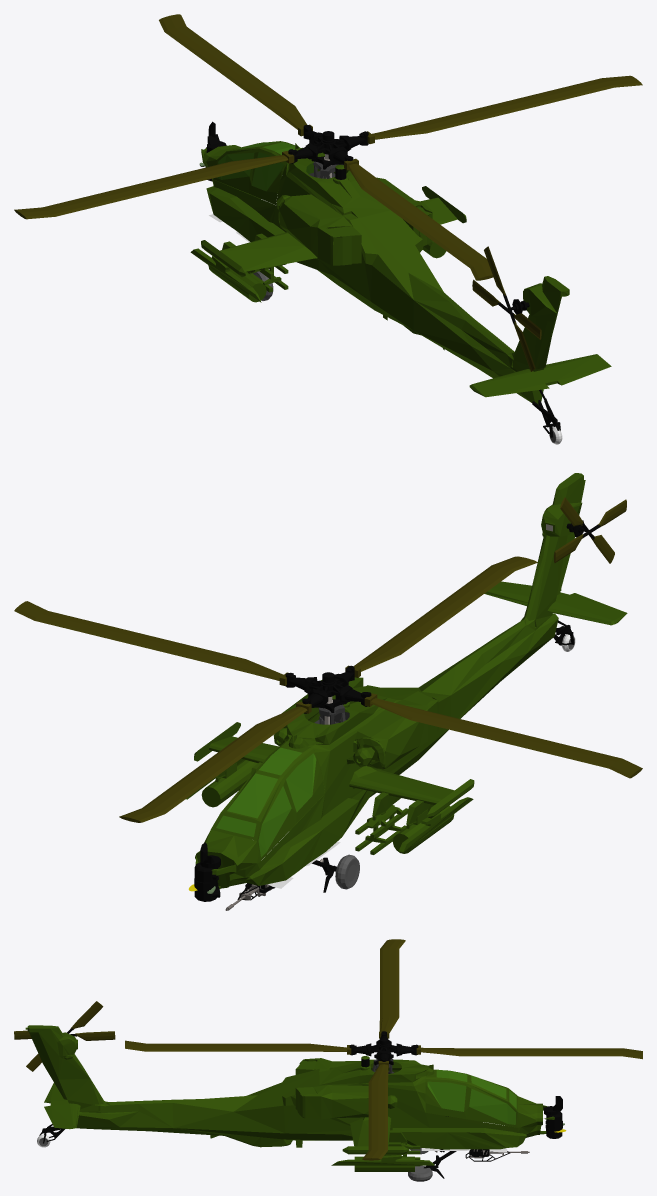
The model's file is apacz.dae.
3 views of the same model, one above another, from view 1: azimuth 30°, elevation 25°; view 2: azimuth 150°, elevation 25°; view 3: azimuth 270°, elevation 25° (orthographic). The views are drawn at different scales.
Visible parts, largest first — view 1: Apacfuse_, ApacRot2, ApacfusT, ApacWin2, ApacWing, Apacside, ApacRoto_, ApacGlas__, ApacCono, ApacTrot, Apac70mm; view 2: Apacfuse_, ApacRot2, ApacGlas__, ApacfusT, Apacside, ApacCono, ApacWing, ApacWin2, Apac70mm, ApacRoto_, ApacTrot, ApacRado (+1 smaller); view 3: Apacfuse_, ApacRot2, ApacfusT, ApacGlas__, Apacside, ApacCono, ApacWin2, ApacTrot, ApacRoto_, ApacWing, Apac70mm, ApacRado.
Boxes of the visible parts, left/top/right/bottom form: Apacfuse_: left=190, top=143, right=569, bottom=404; ApacRot2: left=14, top=14, right=642, bottom=280; ApacfusT: left=276, top=177, right=432, bottom=265; ApacWin2: left=469, top=354, right=611, bottom=397; ApacWing: left=220, top=197, right=457, bottom=271; Apacside: left=206, top=186, right=318, bottom=270; ApacRoto_: left=288, top=125, right=368, bottom=170; ApacGlas__: left=216, top=141, right=313, bottom=191; ApacCono: left=214, top=141, right=319, bottom=204; ApacTrot: left=472, top=246, right=541, bottom=371; Apac70mm: left=208, top=241, right=446, bottom=302; Apacfuse_: left=186, top=473, right=585, bottom=888; ApacRot2: left=14, top=556, right=642, bottom=822; ApacGlas__: left=216, top=747, right=316, bottom=857; ApacfusT: left=273, top=677, right=438, bottom=769; Apacside: left=245, top=790, right=370, bottom=885; ApacCono: left=211, top=741, right=324, bottom=861; ApacWing: left=209, top=736, right=454, bottom=804; ApacWin2: left=484, top=581, right=627, bottom=625; Apac70mm: left=201, top=759, right=454, bottom=853; ApacRoto_: left=285, top=665, right=371, bottom=713; ApacTrot: left=554, top=497, right=626, bottom=563; ApacRado: left=194, top=862, right=220, bottom=901; Apacfuse_: left=25, top=1025, right=554, bottom=1166; ApacRot2: left=125, top=939, right=642, bottom=1160; ApacfusT: left=295, top=1058, right=397, bottom=1119; ApacGlas__: left=427, top=1069, right=516, bottom=1124; Apacside: left=390, top=1113, right=526, bottom=1149; ApacCono: left=425, top=1069, right=517, bottom=1127; ApacWin2: left=44, top=1083, right=80, bottom=1129; ApacTrot: left=14, top=1001, right=115, bottom=1071; ApacRoto_: left=349, top=1031, right=418, bottom=1064; ApacWing: left=350, top=1116, right=391, bottom=1146; Apac70mm: left=354, top=1154, right=414, bottom=1171; ApacRado: left=545, top=1111, right=562, bottom=1138.
Bounding box in the file's own units: 3 × 3.65 × 1.
